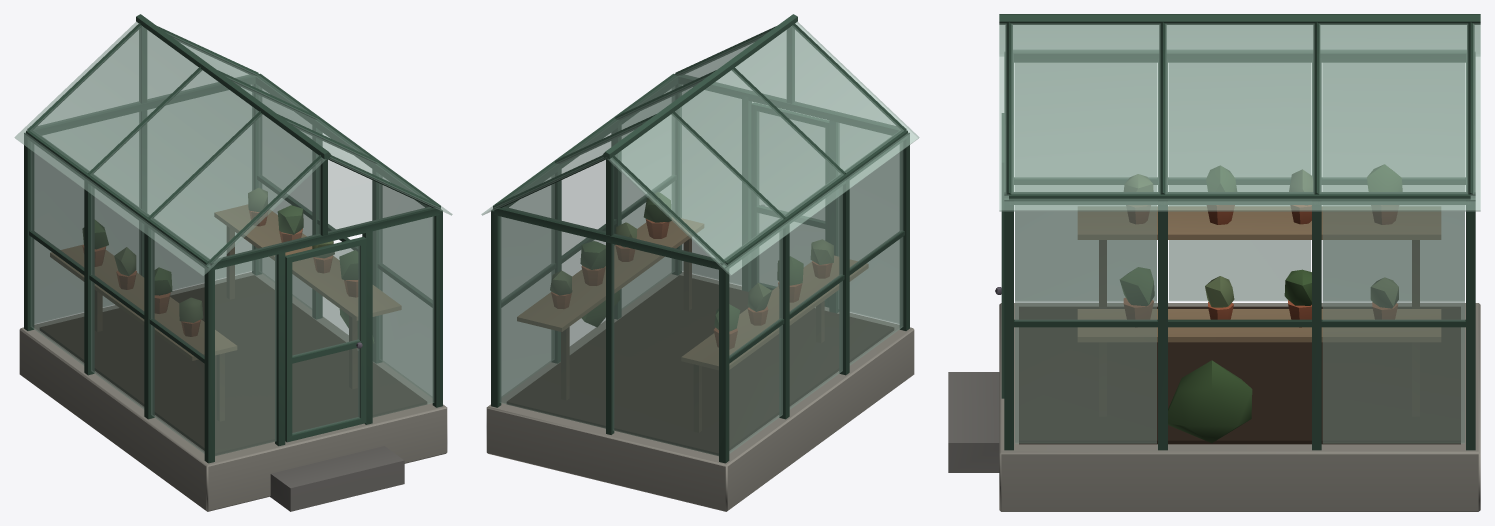
Rendered from greenhouse_grim.glb.
3 views of the same model, side by side, from view 1: azimuth 30°, elevation 25°; view 2: azimuth 150°, elevation 25°; view 3: azimuth 270°, elevation 25° (orthographic). The views are drawn at different scales.
Visible parts, largest first — view 1: greenhouse_grim, door; view 2: greenhouse_grim, door; view 3: greenhouse_grim, door.
Boxes of the visible parts, left/top/right/bottom form: greenhouse_grim: left=14, top=14, right=452, bottom=511; door: left=285, top=236, right=366, bottom=442; greenhouse_grim: left=481, top=14, right=919, bottom=511; door: left=751, top=102, right=828, bottom=307; greenhouse_grim: left=948, top=14, right=1480, bottom=511; door: left=995, top=113, right=1004, bottom=398.
Size of the model in its own units: 1.89 by 2.39 by 2.72.
